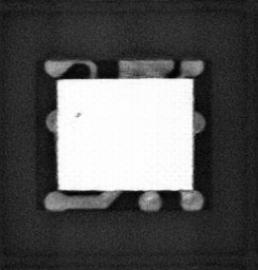DIE_INK: (73, 110, 82, 119)
